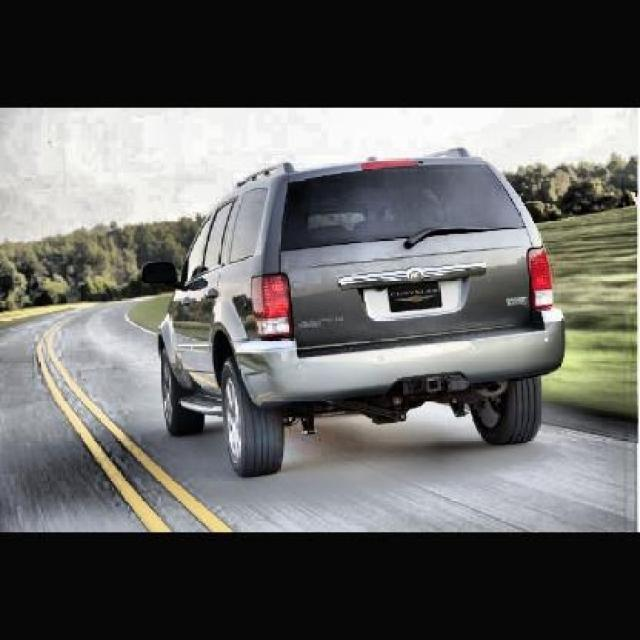black: (176, 160, 542, 427)
